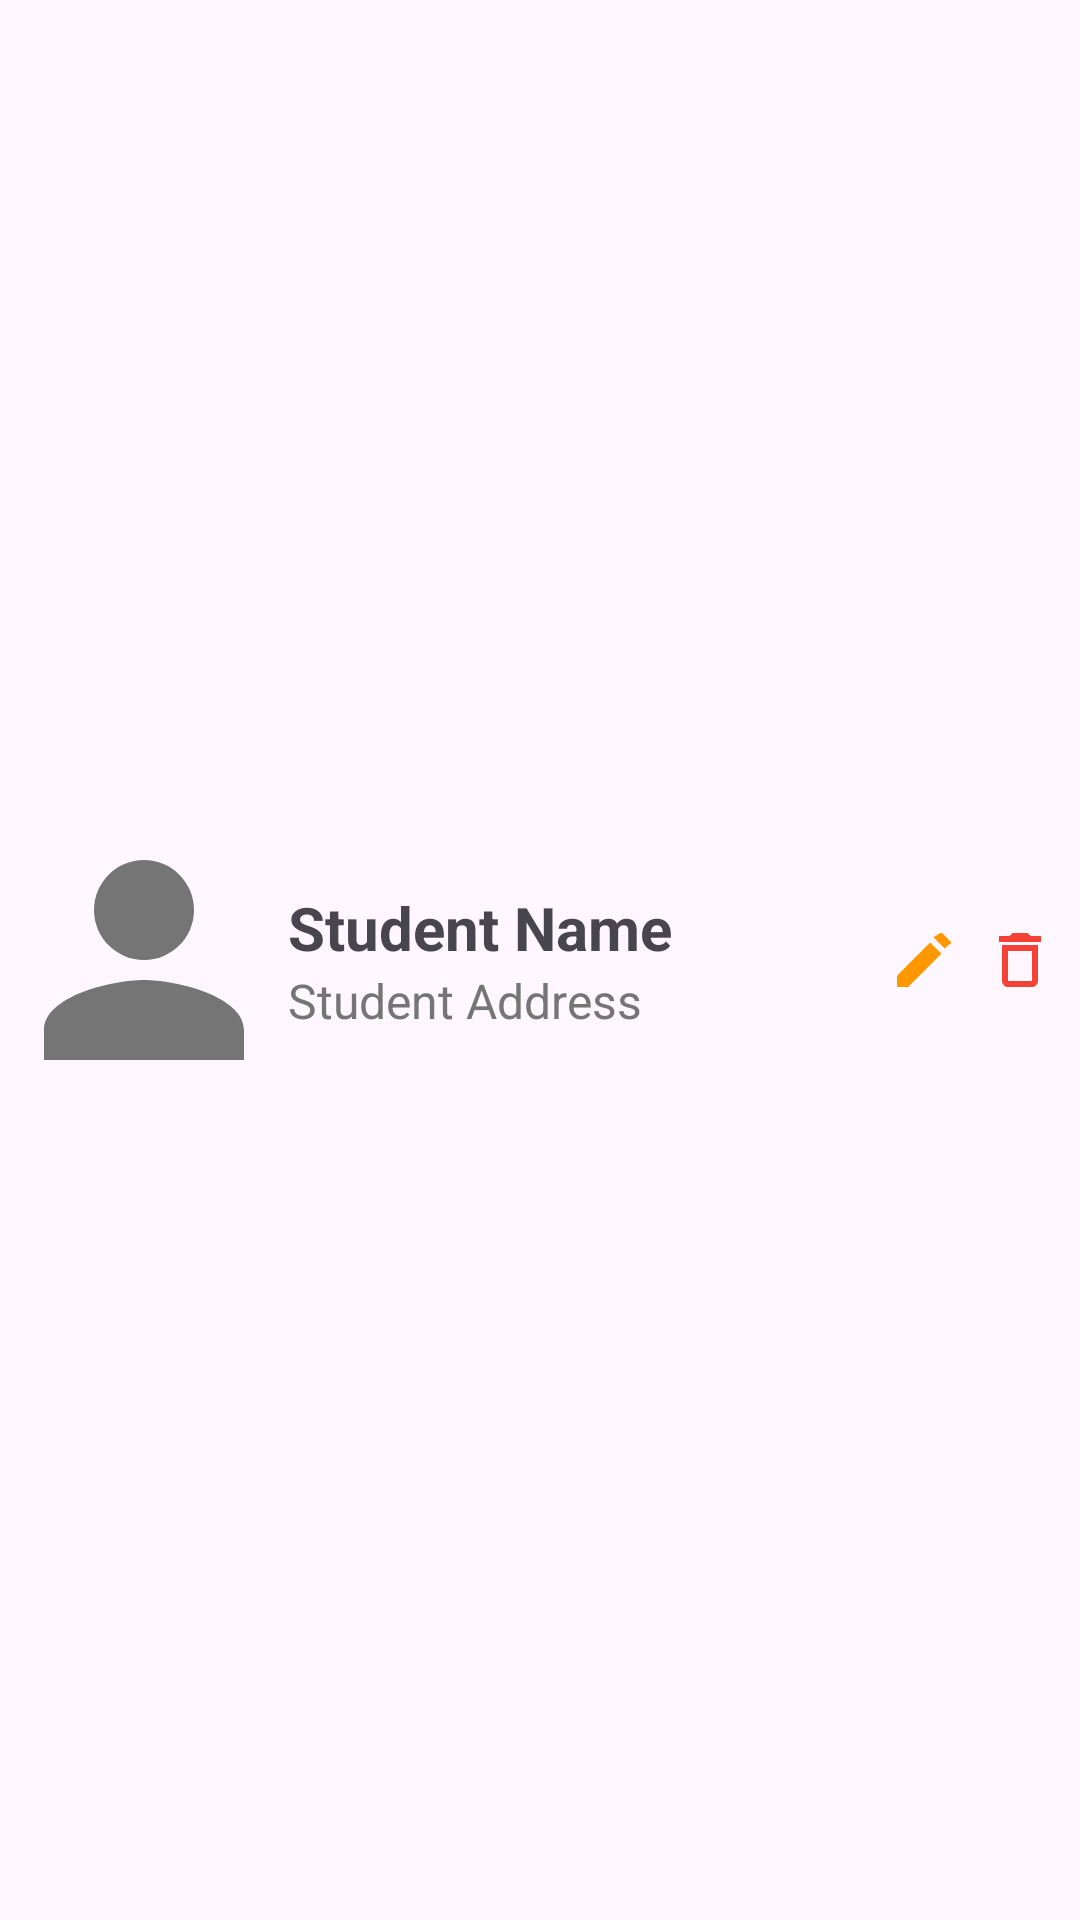

Icons on this 1080w x 1920h Android screen, each with the point to tap as point (x, y):
Delete Contact: point (1020, 960)
Edit Contact: point (924, 960)
